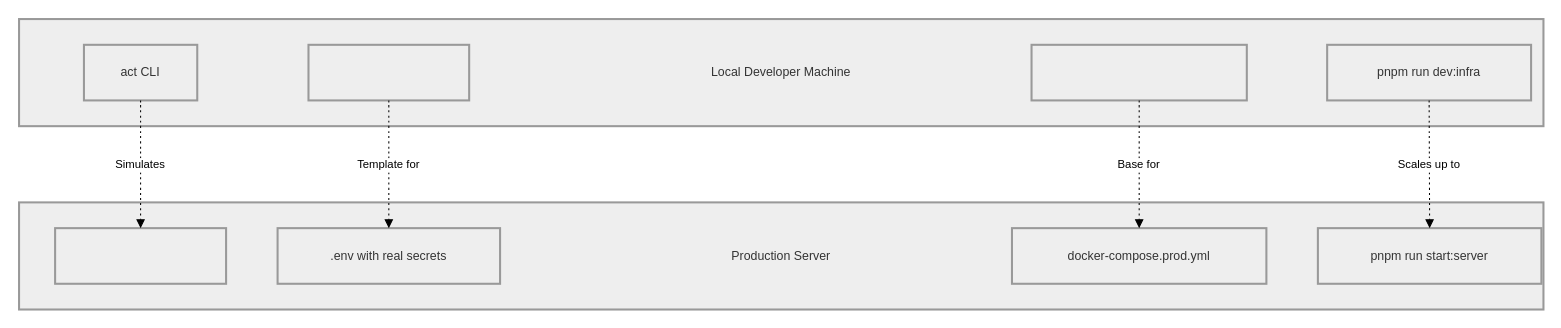
Some shapes in this 1561 by 328 pixel diagram are drawn without their labels. Each missing label, with the box of its shape:
.env.example: (307, 43, 470, 101)
docker-compose.yml: (1030, 43, 1247, 101)
GitHub Actions: (54, 227, 227, 284)
